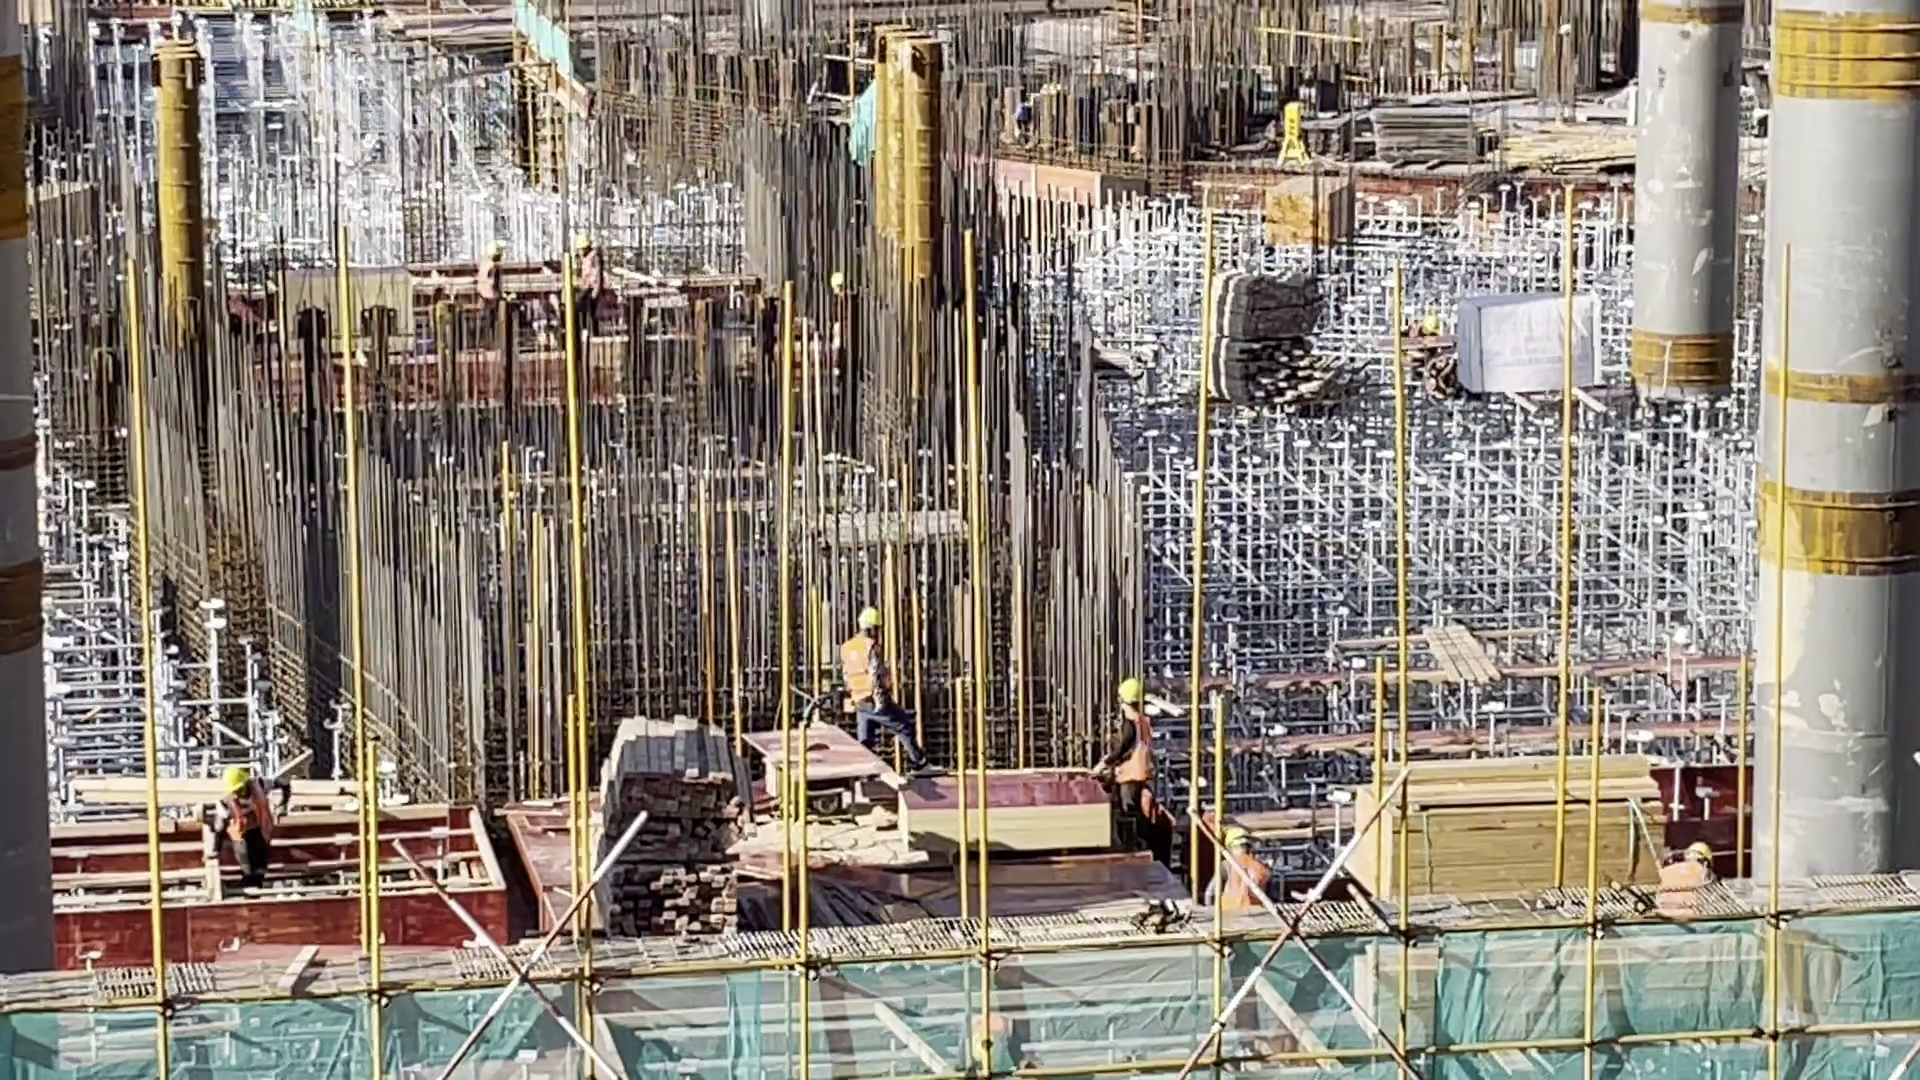board: (895, 771, 1118, 856)
ebox: (1271, 91, 1315, 163)
helmet: (217, 767, 253, 796), (1220, 826, 1255, 847), (1682, 840, 1712, 864), (1115, 679, 1141, 704), (856, 605, 883, 628), (574, 231, 593, 249), (486, 243, 507, 259), (828, 272, 844, 285)
person: (835, 603, 954, 781), (203, 768, 296, 888), (1100, 675, 1160, 850), (474, 243, 516, 346), (570, 233, 609, 337), (1656, 842, 1718, 895)
vest: (839, 638, 887, 702), (1112, 712, 1154, 785), (474, 262, 504, 299), (579, 252, 601, 291)
wood: (1360, 753, 1669, 905), (592, 712, 740, 953), (1261, 169, 1322, 248)
